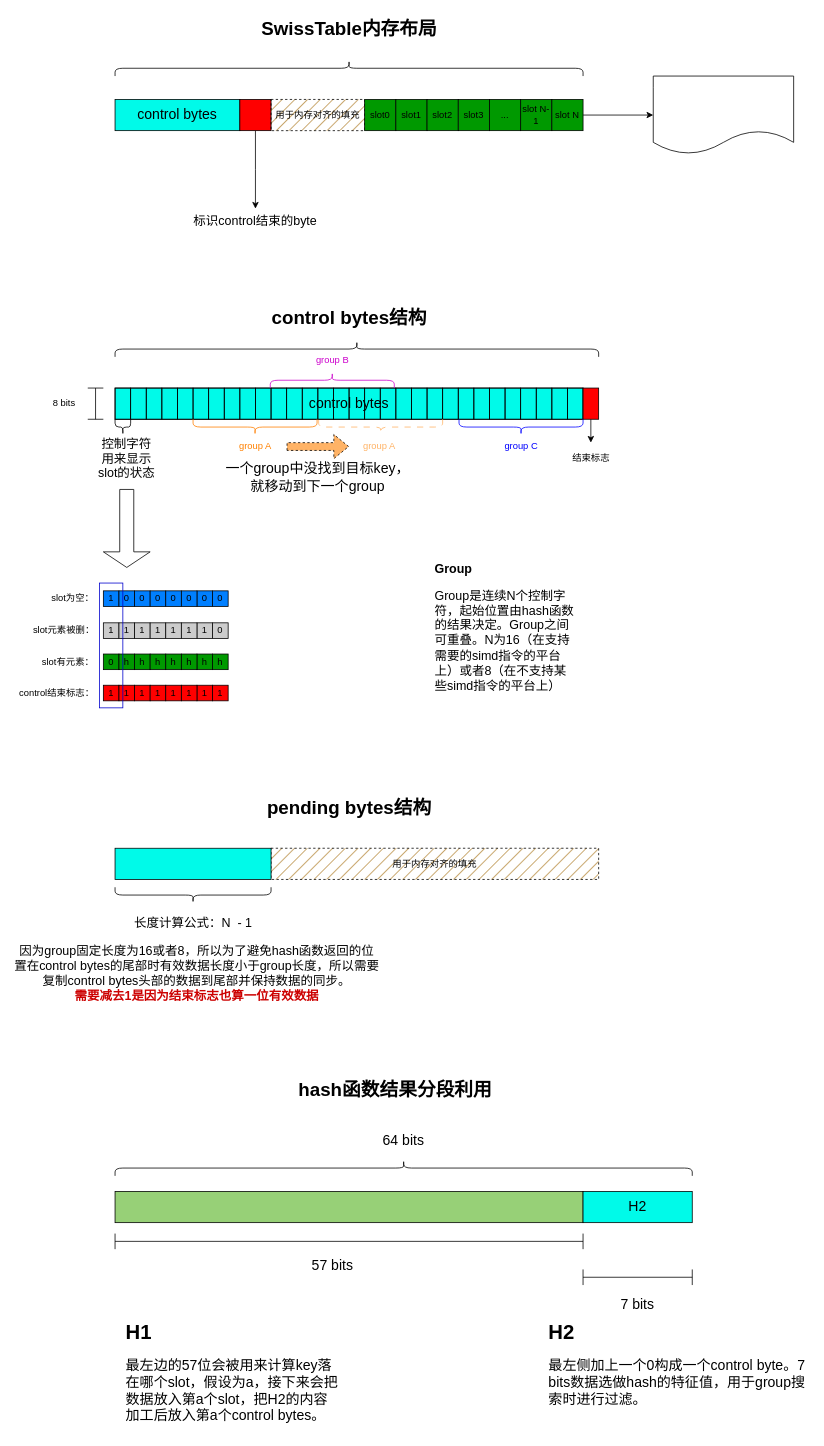
Some shapes in this 824 by 1446 pixel diagram are drawn without their labels. The shapes that lost their labels are listed below. From the top down, each one's centre as x and y in pixels, then its label:
pixel 723 114: control bytes的字节数和slot的数量相等，每个字节反应一个slot的状态
pixel 192 863: 复制自control bytes头部的数据
pixel 348 1207: H1
